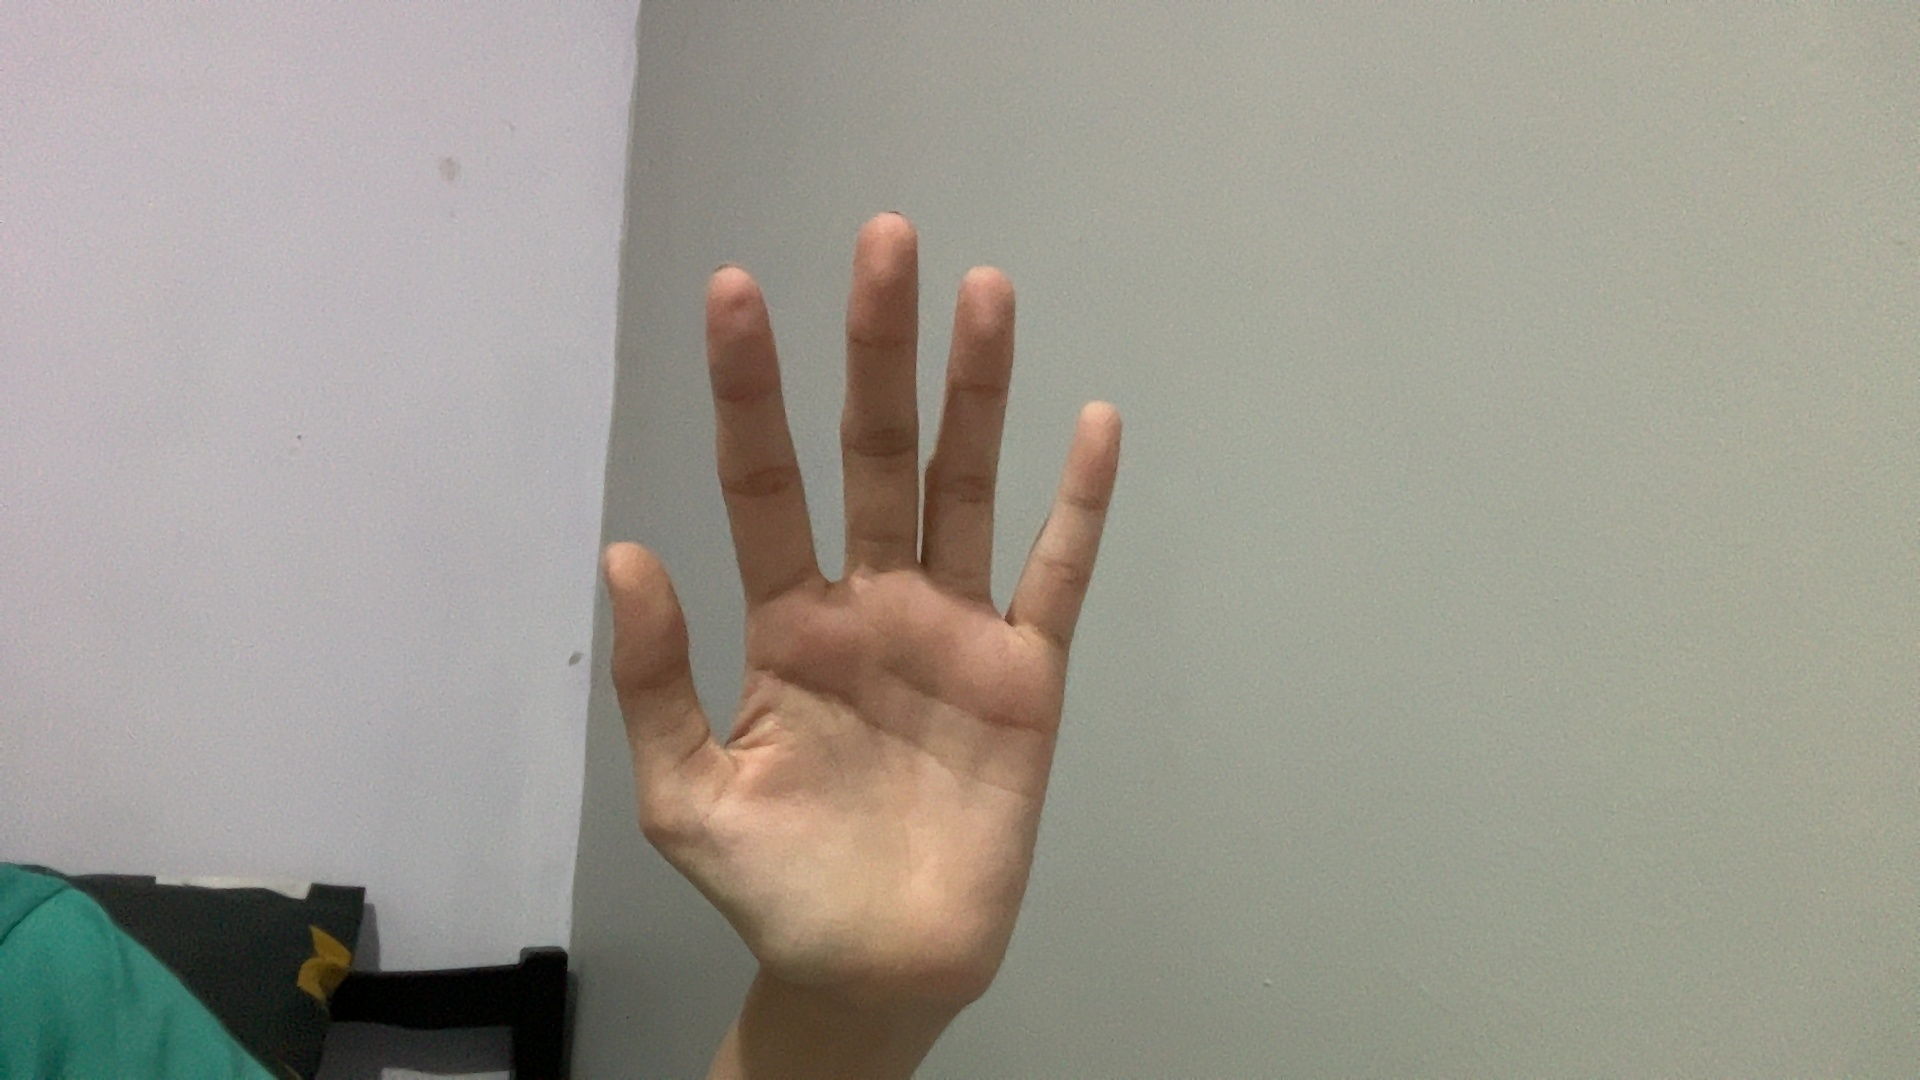Hello: (433, 196, 1309, 1043)
